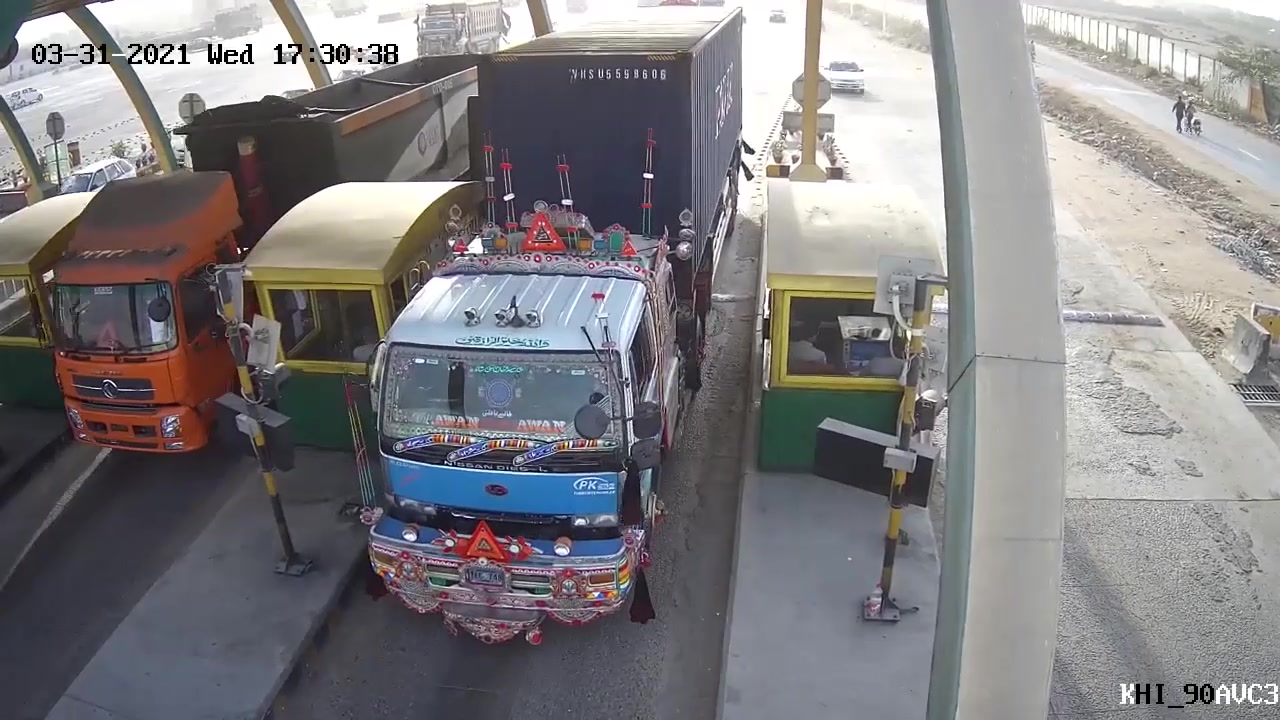F6: (360, 3, 751, 644)
